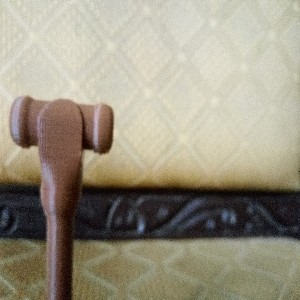palu: (7, 94, 115, 300)
